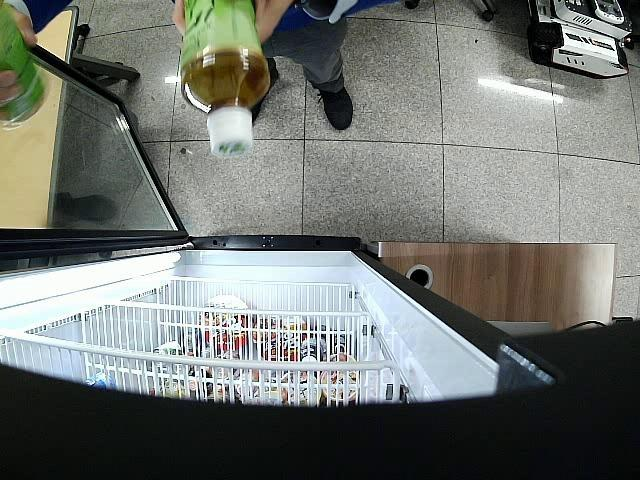19_17cha: (185, 0, 272, 162), (0, 1, 47, 128)
